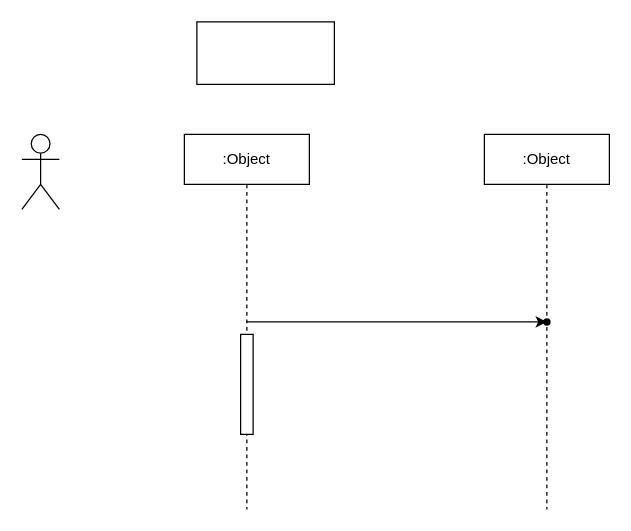
Some shapes in this 631 by 531 pixel diagram are drawn without their labels. Here are the shapes that lost their labels. From the top down, the centre of each, then its label:
point (265, 52): Object
point (40, 171): Actor
